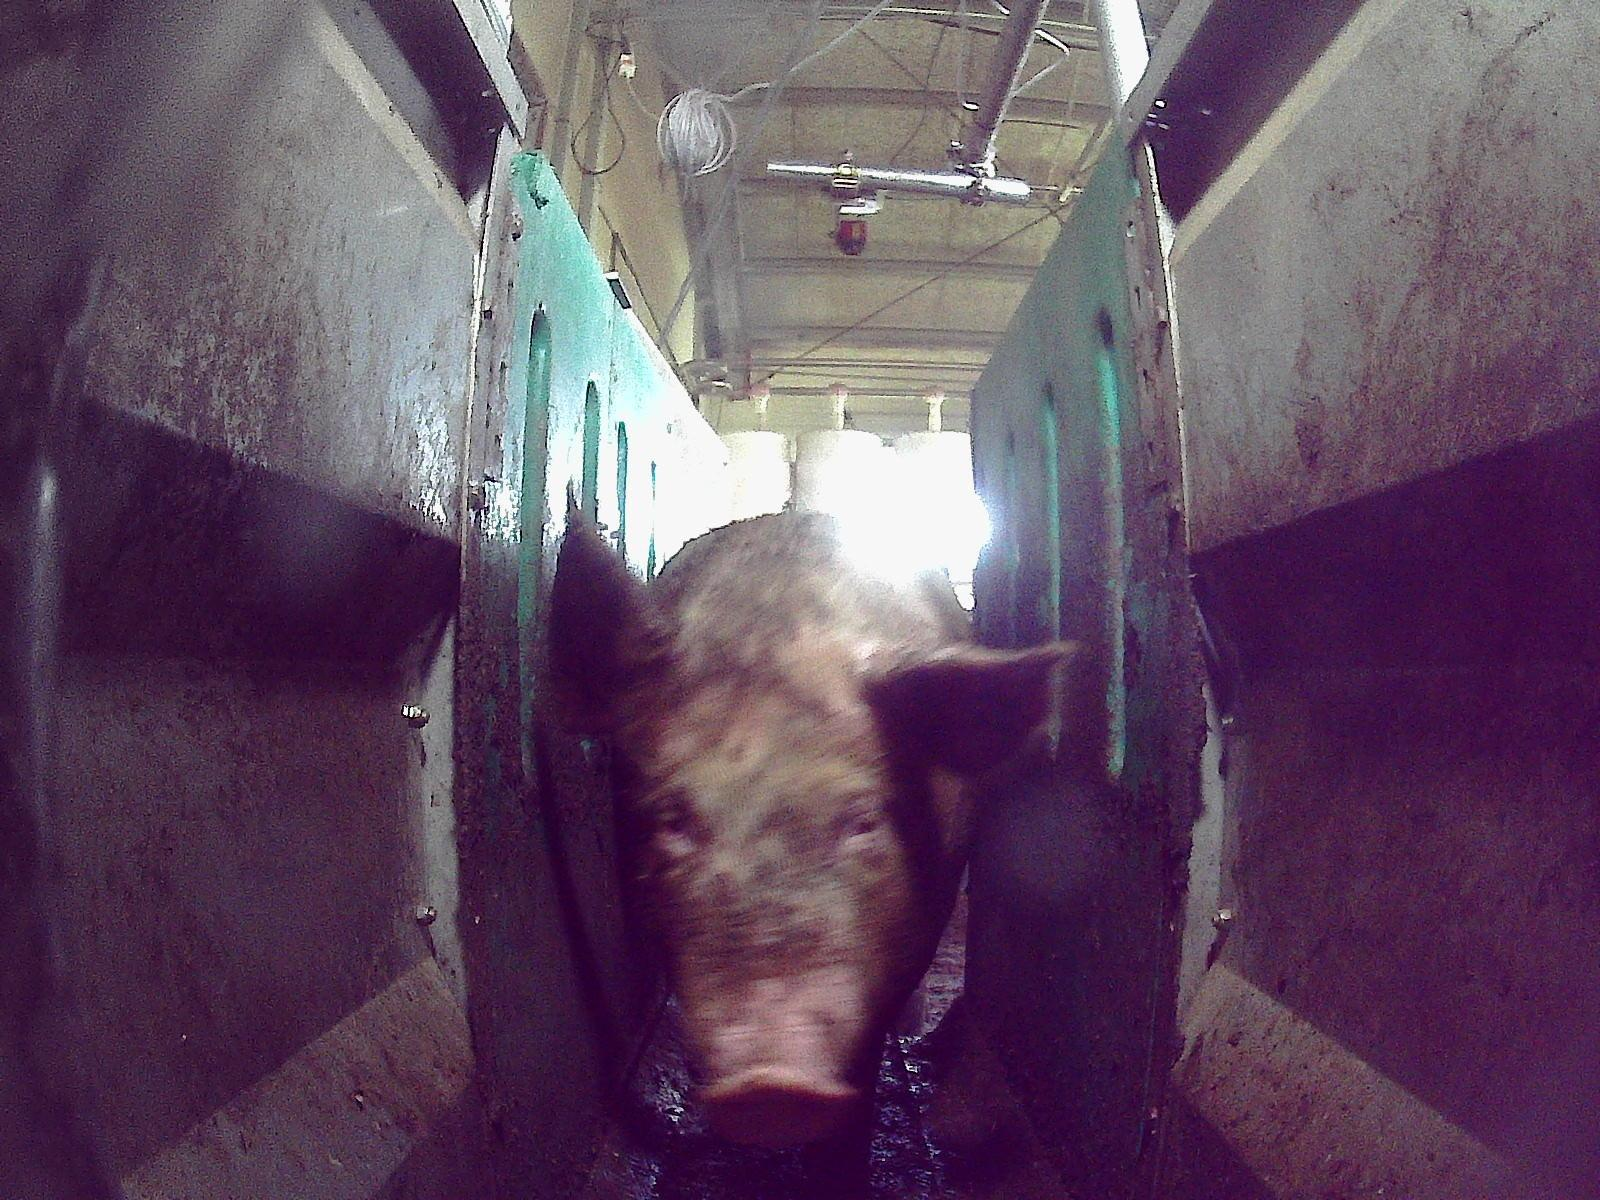Face: (606, 678, 907, 1144)
